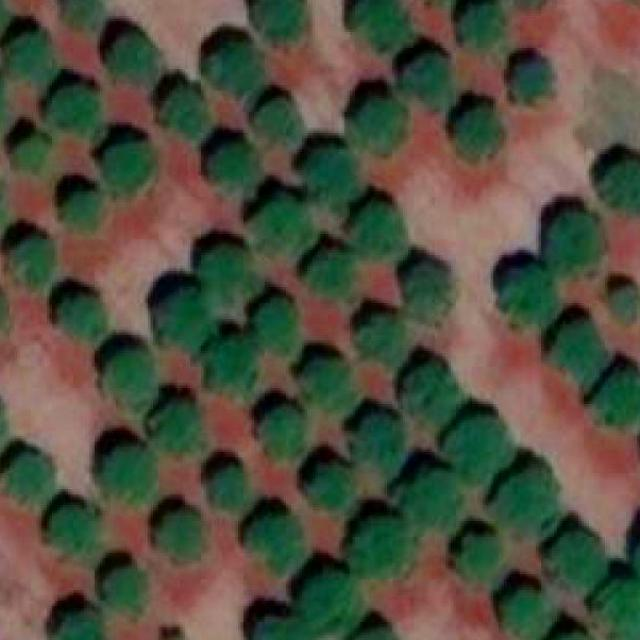Tree: (355, 514, 417, 582), (538, 532, 600, 593), (544, 207, 603, 269), (495, 468, 557, 526), (448, 415, 509, 473), (294, 569, 353, 627), (98, 346, 156, 404), (252, 194, 305, 255), (496, 264, 553, 320), (300, 149, 356, 205), (350, 200, 406, 256), (353, 412, 406, 469), (158, 83, 210, 141), (103, 29, 162, 80), (153, 399, 206, 455), (412, 358, 459, 420), (403, 264, 454, 320), (156, 287, 204, 346), (406, 51, 454, 110), (454, 101, 502, 159), (155, 508, 206, 562), (597, 370, 640, 434), (557, 322, 605, 379), (1, 234, 52, 287), (203, 248, 254, 301), (408, 468, 459, 521), (8, 452, 56, 508), (249, 514, 300, 566), (5, 32, 56, 83), (52, 505, 98, 561), (502, 585, 550, 638), (599, 577, 640, 639), (597, 157, 640, 216), (252, 296, 300, 348), (49, 85, 100, 133), (55, 188, 103, 239), (100, 144, 151, 192), (260, 402, 305, 455), (456, 0, 507, 46), (456, 524, 497, 581), (109, 447, 154, 498), (210, 340, 255, 391), (201, 142, 252, 187), (355, 0, 408, 43), (313, 462, 355, 516), (313, 242, 358, 292), (305, 356, 353, 402), (254, 99, 300, 147), (358, 99, 404, 144), (215, 41, 257, 88), (362, 314, 403, 362), (254, 0, 307, 37), (103, 564, 146, 609), (509, 59, 552, 104), (249, 613, 310, 640), (47, 611, 103, 640), (58, 0, 106, 33), (66, 294, 103, 335), (18, 133, 55, 170), (605, 287, 640, 324), (212, 466, 246, 503), (353, 627, 406, 640), (543, 632, 594, 640)
